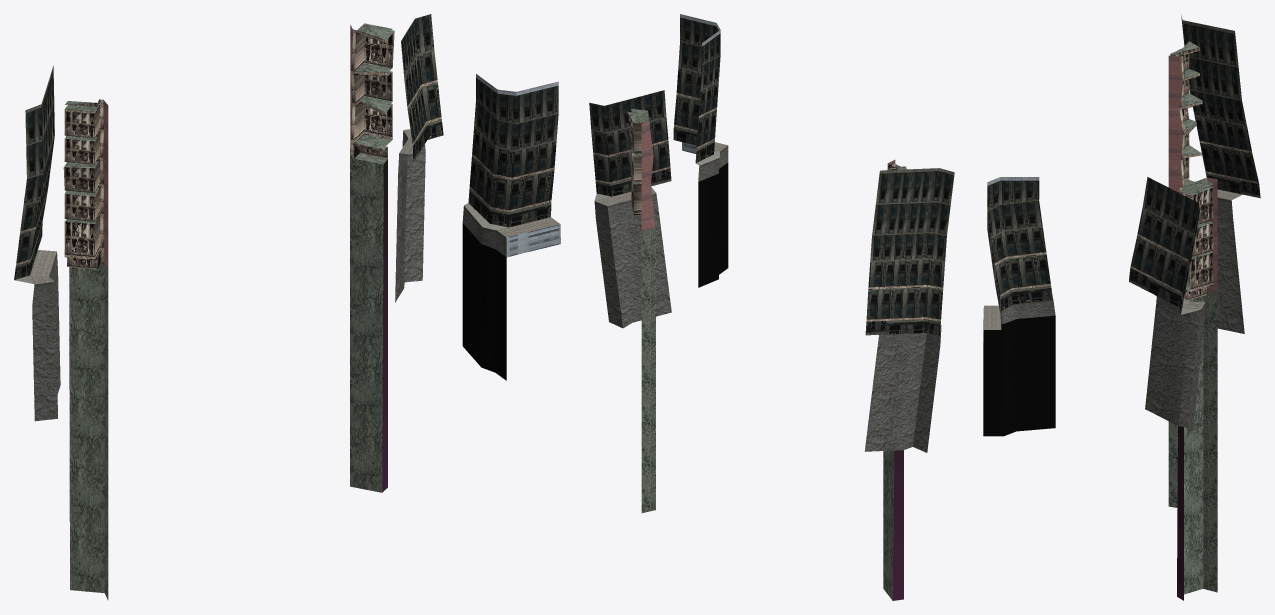
Rendered from STG0100_O_06.fbx.
3 views of the same model, side by side, from view 1: azimuth 30°, elevation 25°; view 2: azimuth 150°, elevation 25°; view 3: azimuth 270°, elevation 25° (orthographic). The views are drawn at different scales.
Parts seen in each view (by area): view 1: STG0100_O_06_default; view 2: STG0100_O_06_default; view 3: STG0100_O_06_default.
Part boxes in pixels (x1,y1,x2,y2): STG0100_O_06_default: (14,14,560,600); STG0100_O_06_default: (589,14,954,600); STG0100_O_06_default: (983,15,1260,600).
Size of the model in its own units: 1808 by 2080 by 1118.
